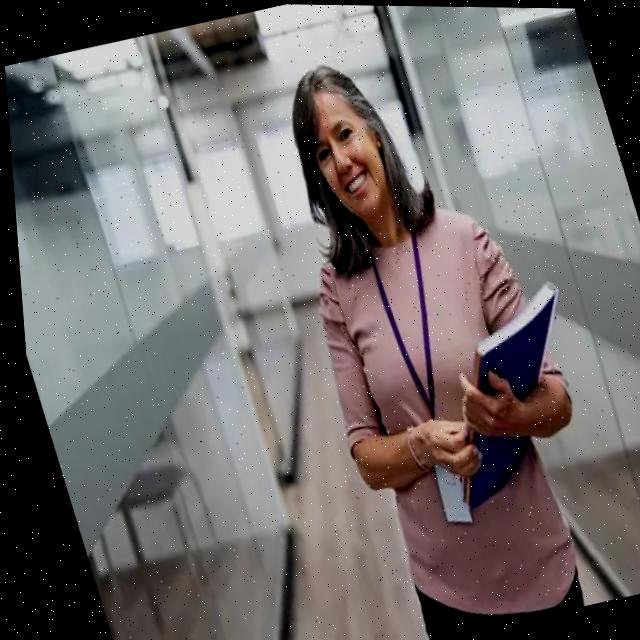id_card: (334, 221, 503, 538)
